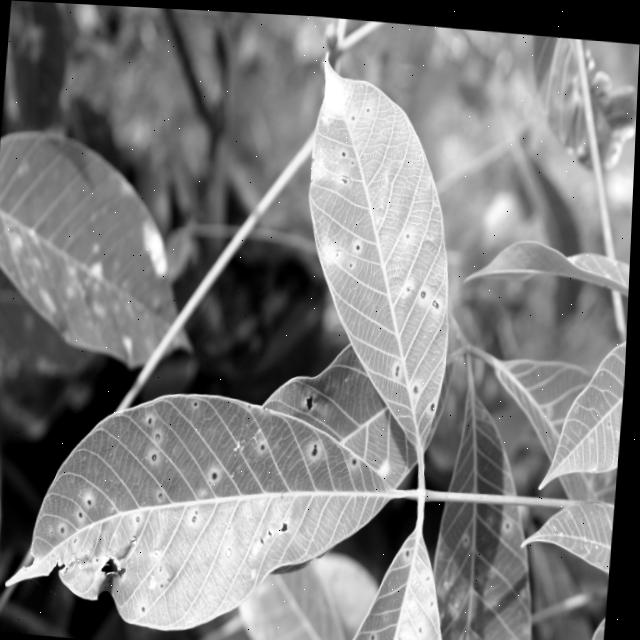Colletotrichum: (134, 533, 143, 546), (270, 523, 279, 535), (262, 533, 271, 543), (157, 546, 165, 556), (337, 246, 344, 256), (230, 545, 236, 555), (435, 295, 441, 303), (258, 543, 264, 551), (216, 469, 221, 477), (159, 431, 163, 439), (423, 286, 427, 293), (140, 514, 144, 521), (156, 452, 160, 459), (316, 445, 320, 452), (162, 491, 167, 496), (197, 513, 201, 519), (358, 241, 361, 245)
